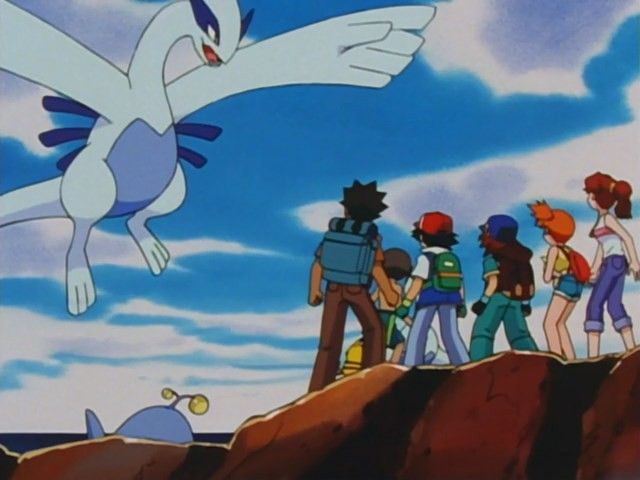lugia: (178, 1, 253, 68)
